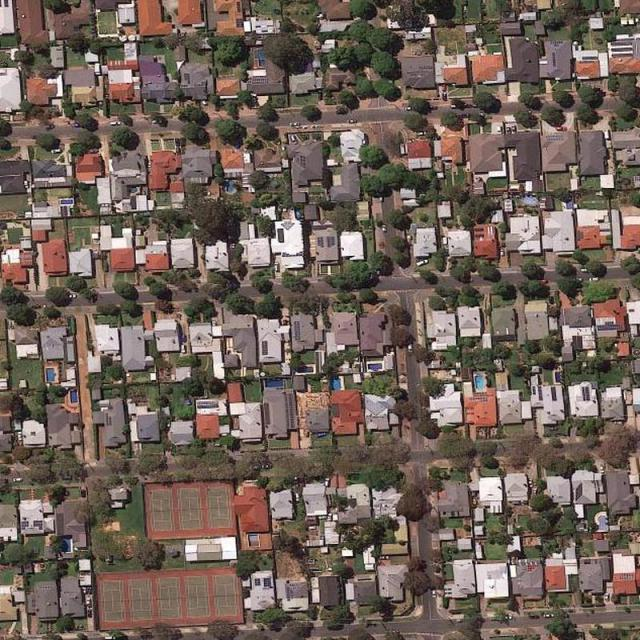vehicle: (415, 259, 428, 266), (109, 119, 120, 126), (406, 342, 413, 353), (526, 478, 533, 488), (17, 430, 23, 441), (325, 478, 332, 487), (74, 122, 83, 129), (378, 555, 390, 560), (44, 124, 54, 130), (405, 105, 415, 111), (273, 262, 279, 272), (180, 343, 186, 353), (294, 492, 300, 502), (543, 613, 554, 618), (450, 103, 461, 108), (579, 268, 590, 273), (502, 615, 513, 620), (432, 589, 438, 598), (604, 593, 610, 602), (499, 249, 505, 258), (381, 223, 386, 233), (589, 278, 601, 282), (23, 180, 29, 188), (86, 598, 92, 606), (497, 125, 502, 134), (506, 125, 511, 134), (511, 124, 516, 133), (50, 149, 61, 153), (11, 478, 22, 482), (290, 122, 300, 126), (347, 119, 357, 123), (417, 131, 427, 135), (67, 294, 75, 298), (83, 587, 86, 594)
